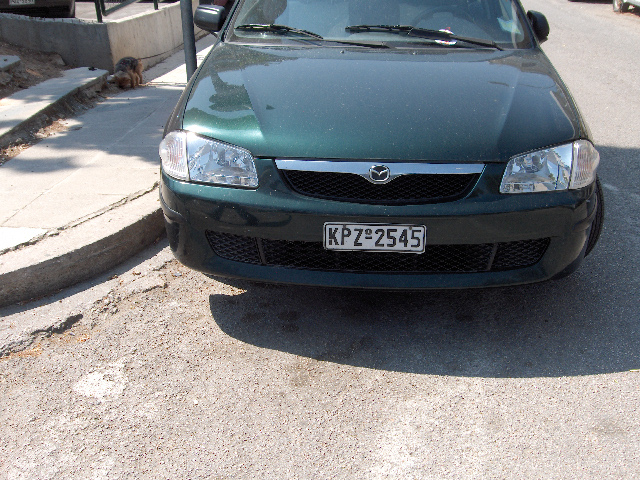licenseplate: (322, 221, 426, 254)
